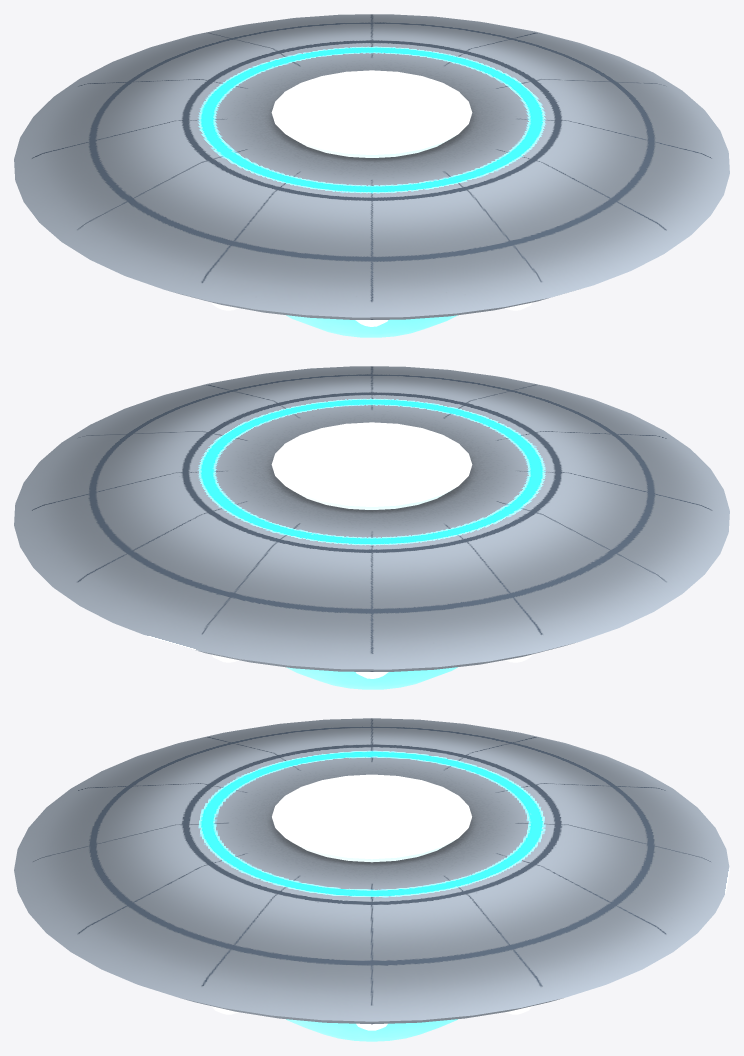
Rendered from Boomerang_70.fbx.
3 renders of one model, top to bottom at view 1: azimuth 30°, elevation 25°; view 2: azimuth 150°, elevation 25°; view 3: azimuth 270°, elevation 25°, orthographic.
Parts seen in each view (by area): view 1: Boomerang_70; view 2: Boomerang_70; view 3: Boomerang_70.
Part boxes in pixels (<box>): Boomerang_70: <box>14,14,729,337</box>; Boomerang_70: <box>14,366,729,689</box>; Boomerang_70: <box>14,718,729,1041</box>.
Bounding box in the file's own units: 198 × 63.26 × 198.
1 material, 1 textured.
